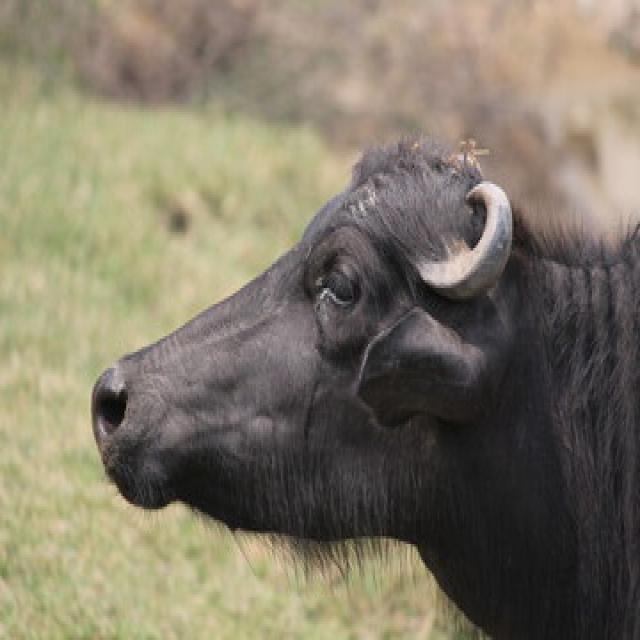Buffalo: (87, 128, 638, 637)
